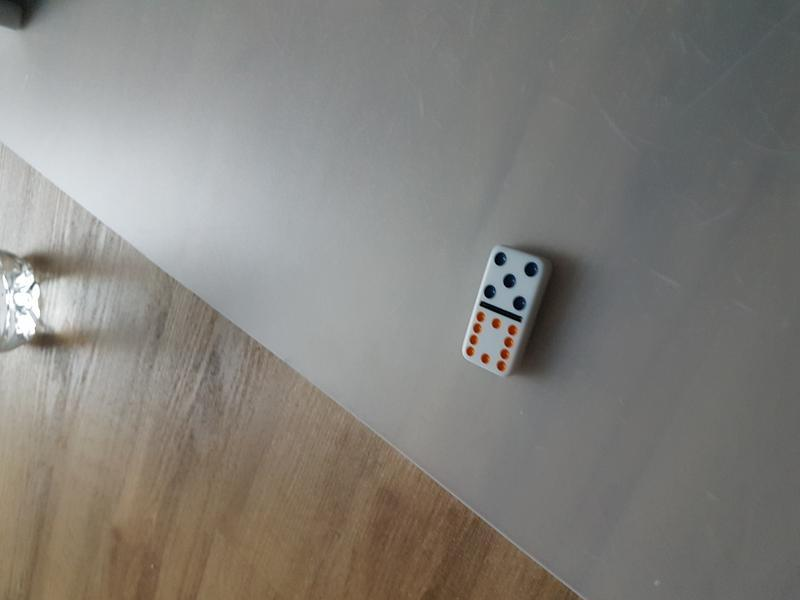Domino: (459, 243, 557, 380)
